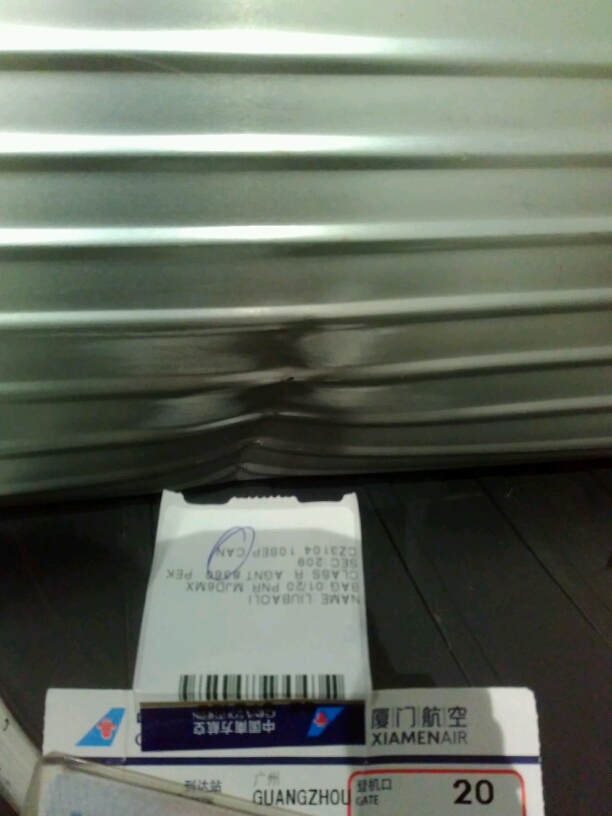rupture: (174, 319, 364, 490)
